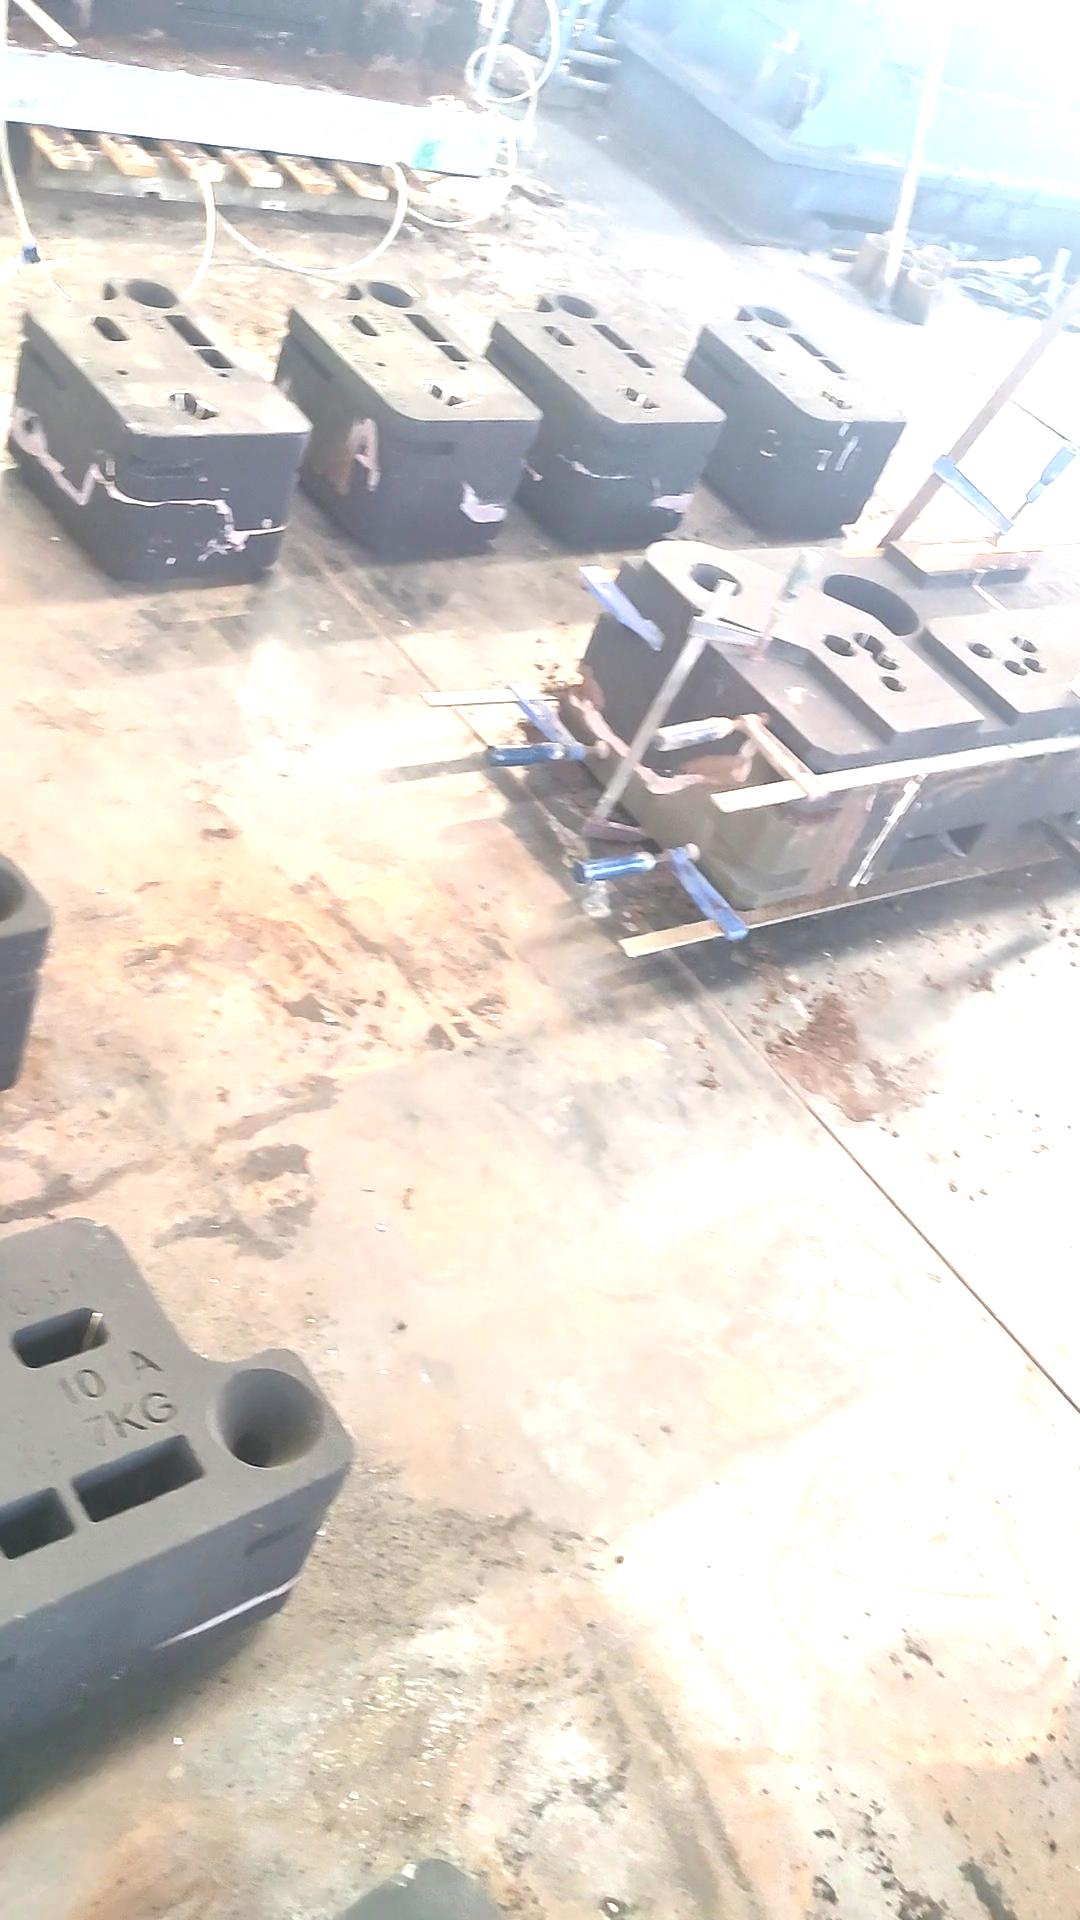pouring hole: (211, 1365, 328, 1470), (691, 562, 742, 597), (125, 280, 179, 309), (1, 865, 26, 920), (363, 282, 414, 309), (558, 293, 597, 319), (752, 305, 793, 328), (924, 244, 957, 264), (866, 232, 895, 255), (914, 251, 943, 270), (911, 269, 942, 287), (887, 231, 916, 248), (890, 251, 916, 268)
